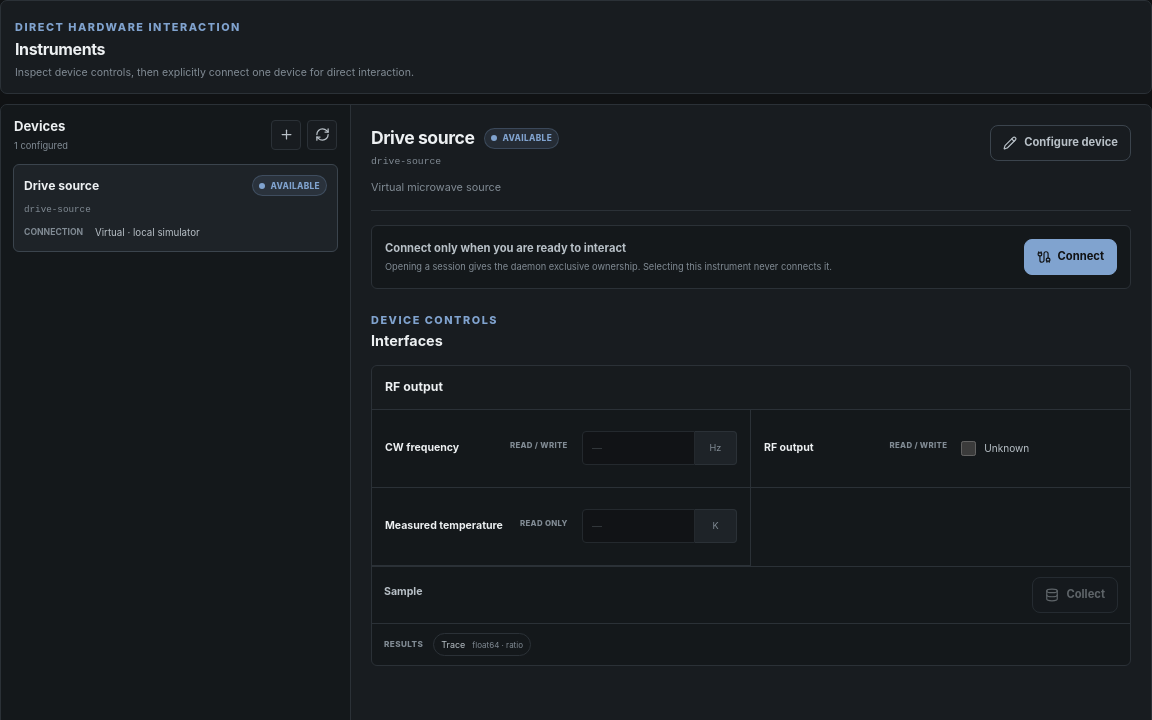
instrument workspace › shows configured-default rejection problems without losing the session
Check: the text "Drive source" is shown, box left=24, top=177, right=99, bottom=195
Click the button "Connect". click: click(1070, 257)
box: left=1024, top=239, right=1117, bottom=275
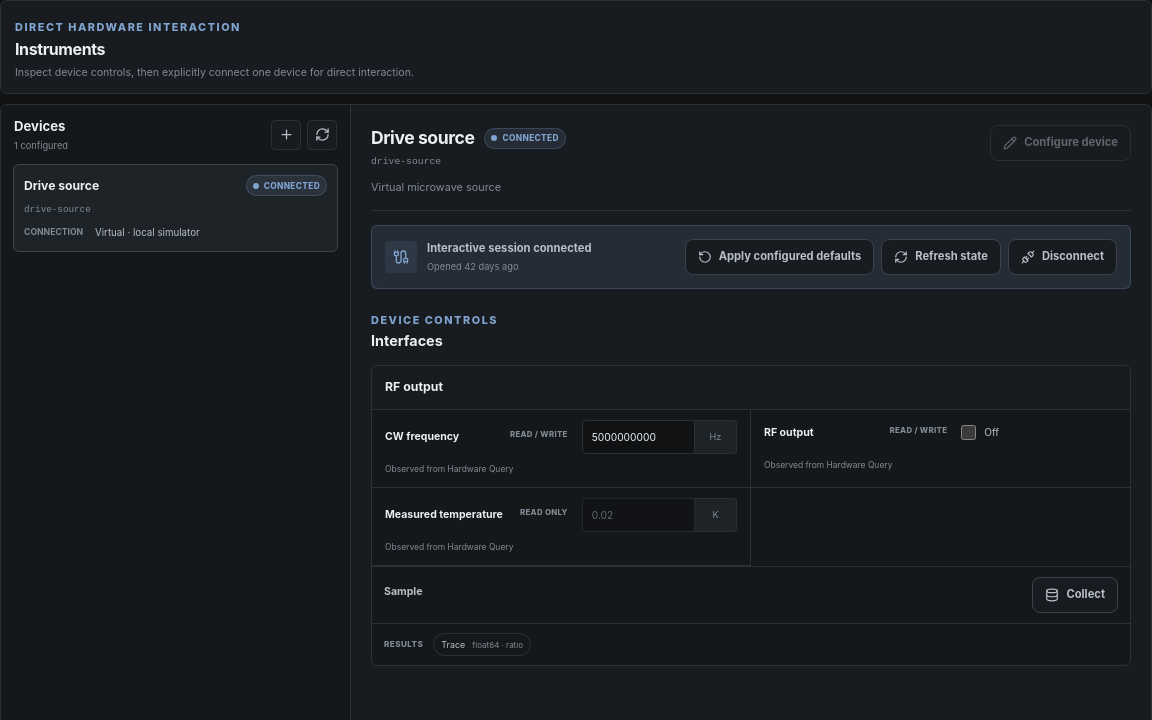
Check: the text "Interactive session connected" is shown, box left=427, top=240, right=592, bottom=257
Click the button "Apply configured defaults". click: click(779, 257)
box: left=685, top=239, right=874, bottom=275
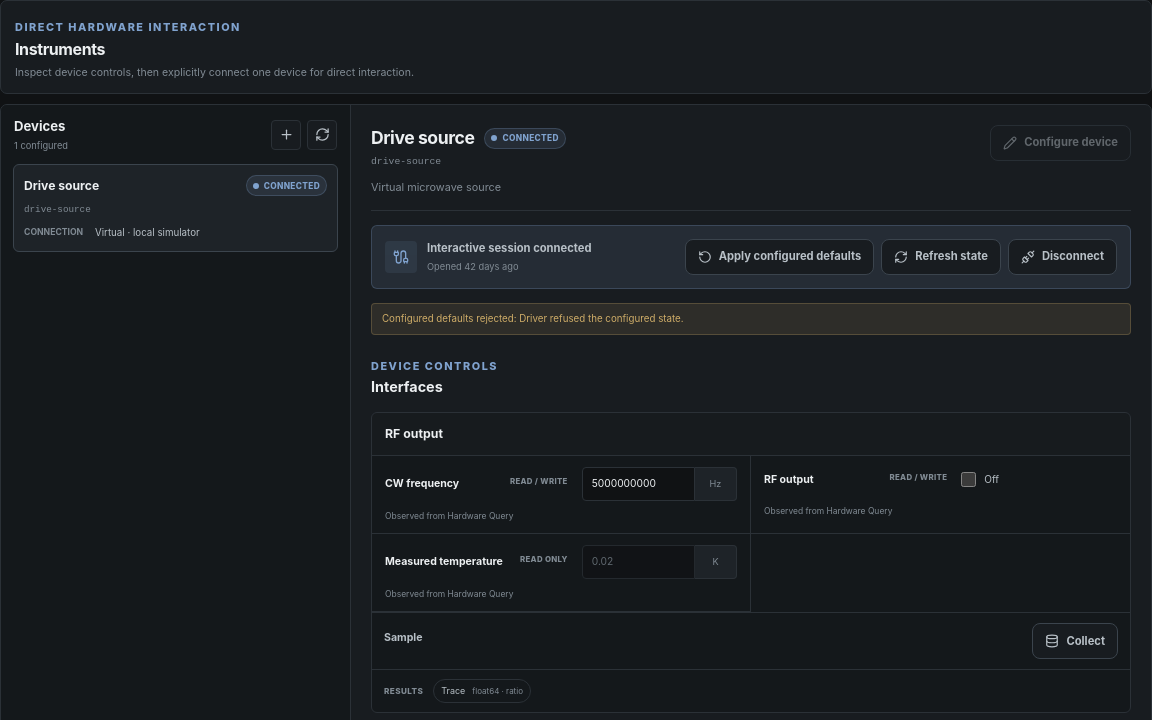
Check: the text "Interactive session connected" is shown, box left=427, top=240, right=592, bottom=257
Check: the text "Configured defaults rejected: Driver refused the configured state." is shown, box left=371, top=303, right=1131, bottom=335
